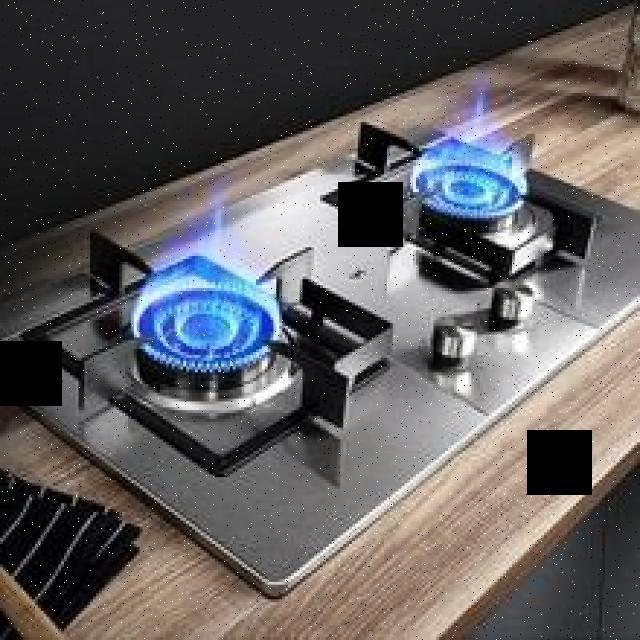Flame: (129, 268, 296, 380), (398, 144, 562, 234)
